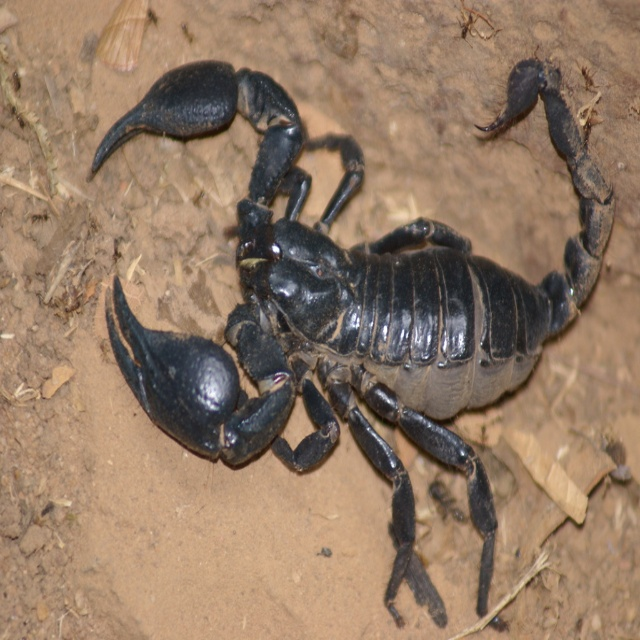Scorpion: (84, 58, 615, 634)
